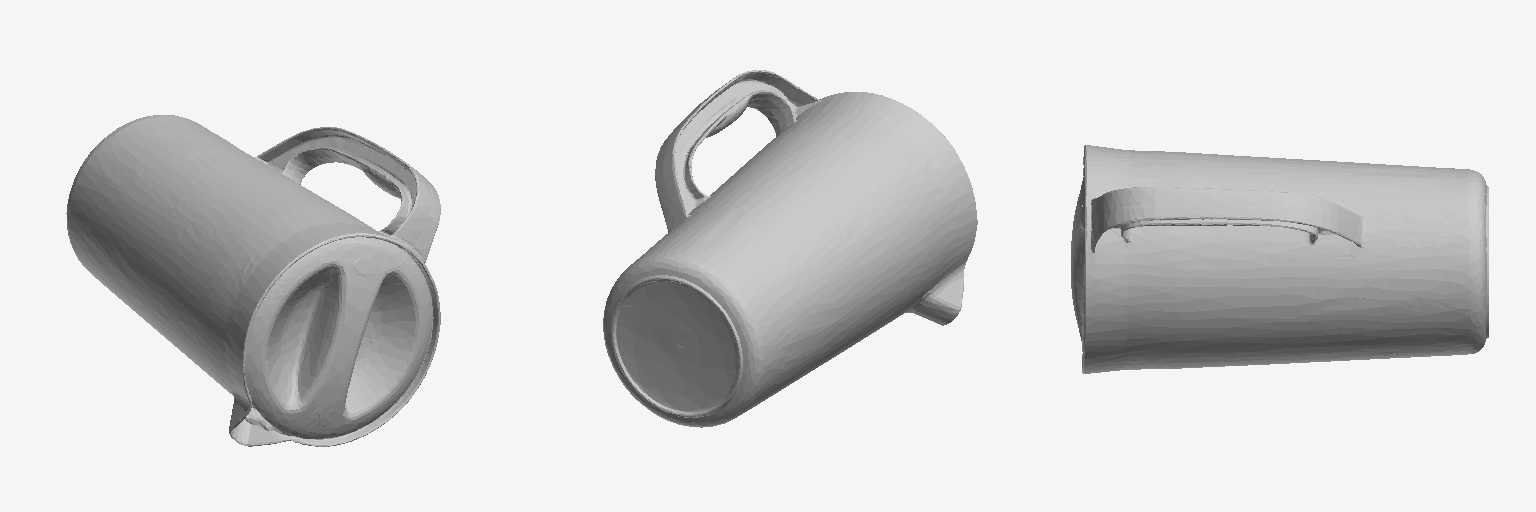
The model's file is pitcher.obj.
The picture shows the model from 3 angles: view 1: azimuth 30°, elevation 25°; view 2: azimuth 150°, elevation 25°; view 3: azimuth 270°, elevation 25°; orthographic projection.
Visible parts, largest first — view 1: pitcher; view 2: pitcher; view 3: pitcher.
Boxes of the visible parts, <box> form: pitcher: <box>66,115,440,446</box>; pitcher: <box>603,70,977,427</box>; pitcher: <box>1071,145,1488,373</box>.
Size of the model in its own units: 0.149 by 0.1449 by 0.2424.